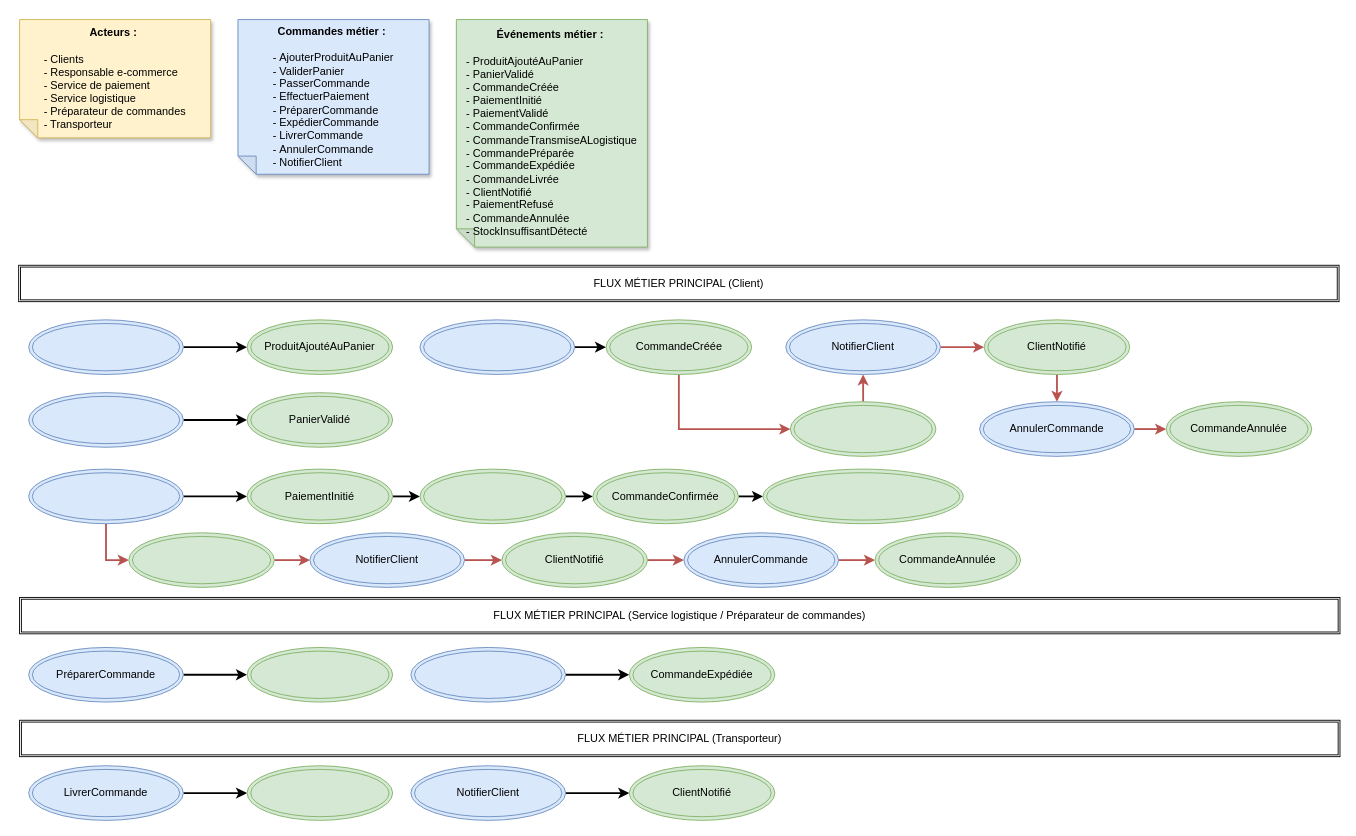
This 1356x836 diagram has some shape labels left out. Here are the shapes that lost their labels. From the top down, the centre of each, then its label:
point 105,346: AjouterProduitAuPanier
point 497,346: PasserCommande
point 105,419: ValiderPanier
point 862,428: StockInsuffisantDétecté
point 105,496: EffectuerPaiement
point 492,496: PaiementValidé
point 862,496: CommandeTransmiseALogistique
point 201,559: PaiementRefusé
point 319,674: CommandePréparée
point 488,674: ExpédierCommande
point 319,792: CommandeLivrée
